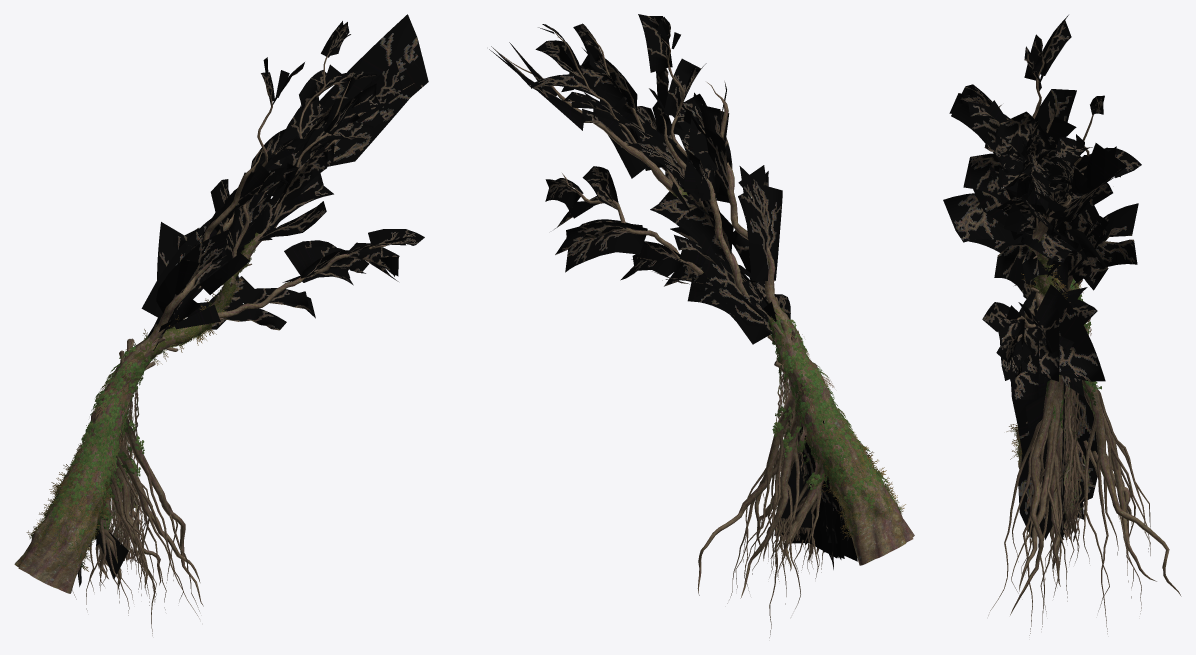
File: Tree - Alien Tree 05 2-hS50TB6l.glb
The picture shows the model from 3 angles, left to right: view 1: azimuth 30°, elevation 25°; view 2: azimuth 150°, elevation 25°; view 3: azimuth 270°, elevation 25°; orthographic projection. The views are drawn at different scales.
Visible parts, largest first — view 1: Tree_05_2(Clone), Tree_05_2_Plants(Clone); view 2: Tree_05_2(Clone), Tree_05_2_Plants(Clone); view 3: Tree_05_2(Clone), Tree_05_2_Plants(Clone).
Boxes of the visible parts, x1,y1,x2,y2 form: Tree_05_2(Clone): (14, 14, 428, 635); Tree_05_2_Plants(Clone): (26, 232, 261, 571); Tree_05_2(Clone): (489, 14, 914, 637); Tree_05_2_Plants(Clone): (672, 186, 905, 538); Tree_05_2(Clone): (943, 15, 1181, 635); Tree_05_2_Plants(Clone): (1006, 235, 1101, 464).
Size of the model in its own units: 30.74 by 39.36 by 12.43.
5 materials, 5 textured.
